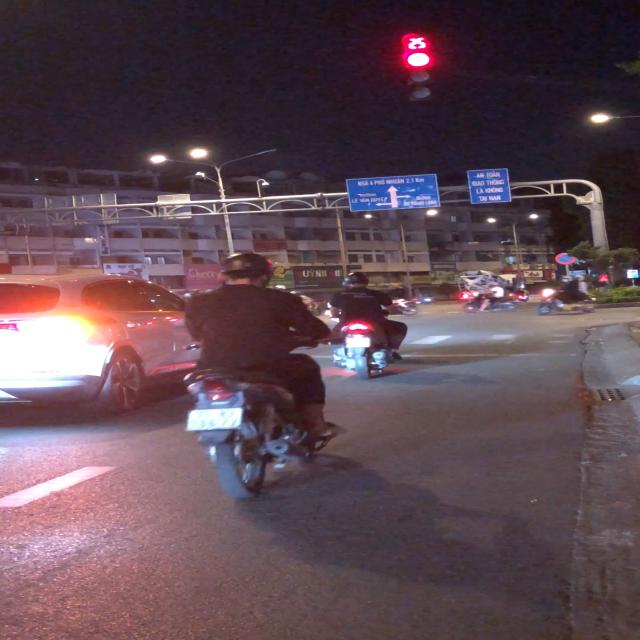Bien bao cam do xe: (554, 252, 576, 266)
